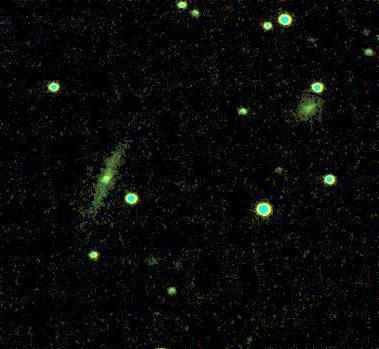star: (93, 167, 123, 197)
